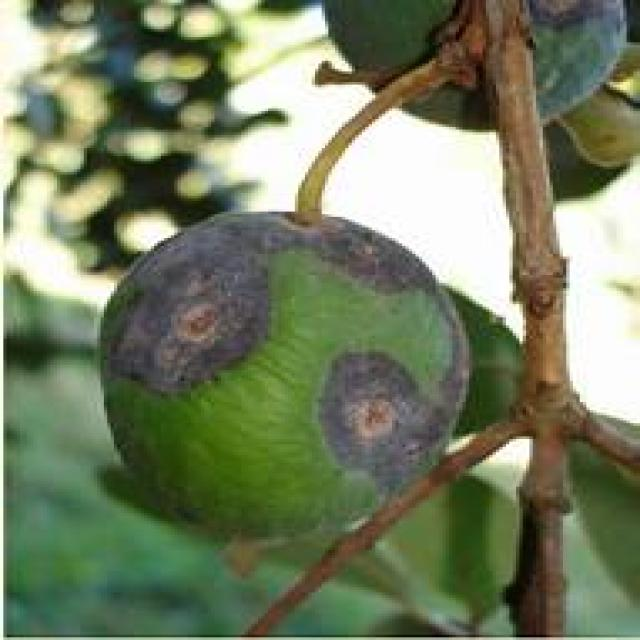Olive Fruit Fly: (104, 212, 462, 542)
